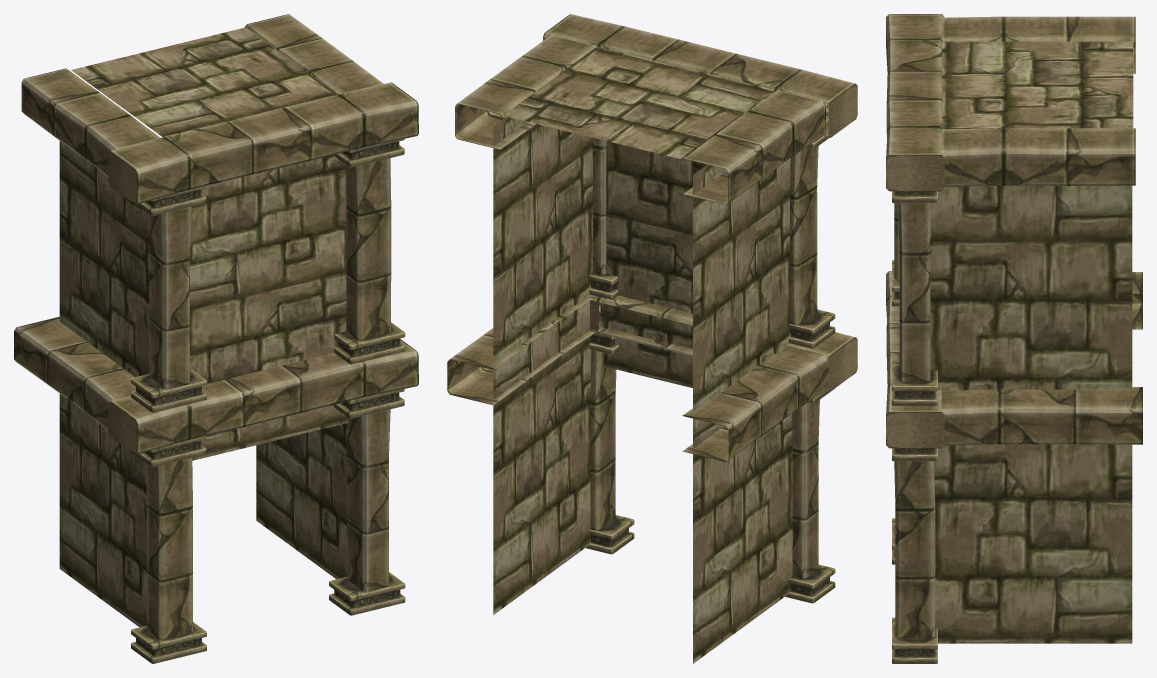
File: temple facade.FBX
3 renders of one model, left to right at view 1: azimuth 30°, elevation 25°; view 2: azimuth 150°, elevation 25°; view 3: azimuth 270°, elevation 25°, orthographic. The views are drawn at different scales.
Visible parts, largest first — view 1: temple facade; view 2: temple facade; view 3: temple facade.
Part boxes in pixels (left/top/right/bottom): temple facade: left=14, top=14, right=418, bottom=663; temple facade: left=447, top=14, right=857, bottom=663; temple facade: left=886, top=14, right=1142, bottom=663.
Bounding box in the file's own units: 9.41 × 15.99 × 7.23.
